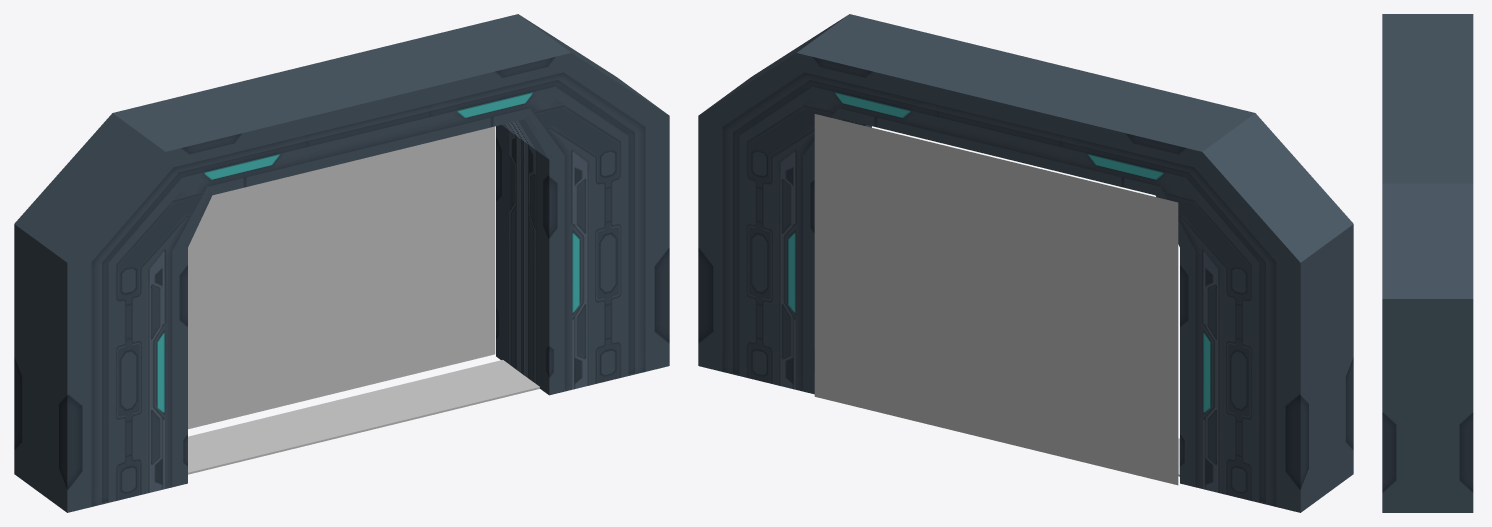
File: pve_research_doorframe.FBX
3 renders of one model, left to right at view 1: azimuth 30°, elevation 25°; view 2: azimuth 150°, elevation 25°; view 3: azimuth 270°, elevation 25°, orthographic. The views are drawn at different scales.
Visible parts, largest first — view 1: pve_research_p5_door_01, pve_research_p5_door_01_01, pve_research_ground_01; view 2: pve_research_p5_door_01, pve_research_p5_door_01_01; view 3: pve_research_p5_door_01.
Part boxes in pixels (left/top/right/bottom): pve_research_p5_door_01: left=14, top=14, right=669, bottom=512; pve_research_p5_door_01_01: left=188, top=126, right=495, bottom=429; pve_research_ground_01: left=188, top=360, right=539, bottom=474; pve_research_p5_door_01: left=698, top=14, right=1353, bottom=512; pve_research_p5_door_01_01: left=814, top=114, right=1178, bottom=485; pve_research_p5_door_01: left=1382, top=14, right=1473, bottom=512.
Bounding box in the file's own units: 900 × 481 × 144.
